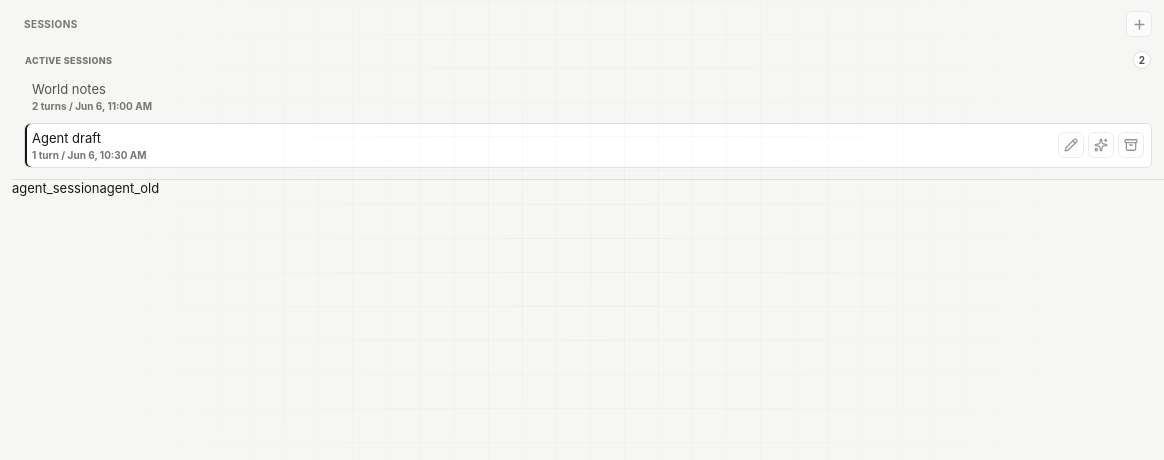
Cell components › SessionList selects the session agent and clears a stale agent when absent
Step 1. Click the list item with aria-label "Session World notes, 2 turns" → (92, 96), box 32,81 -> 152,112
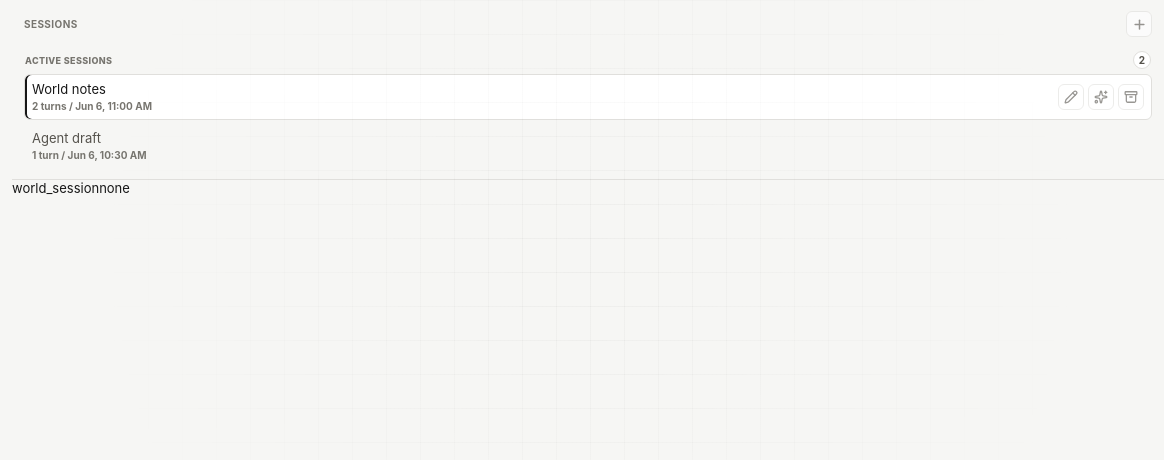
Now the text named "selected-session" reads "world_session", box 12,180 -> 99,196
Now the text named "selected-agent" reads "none", box 99,180 -> 130,196
